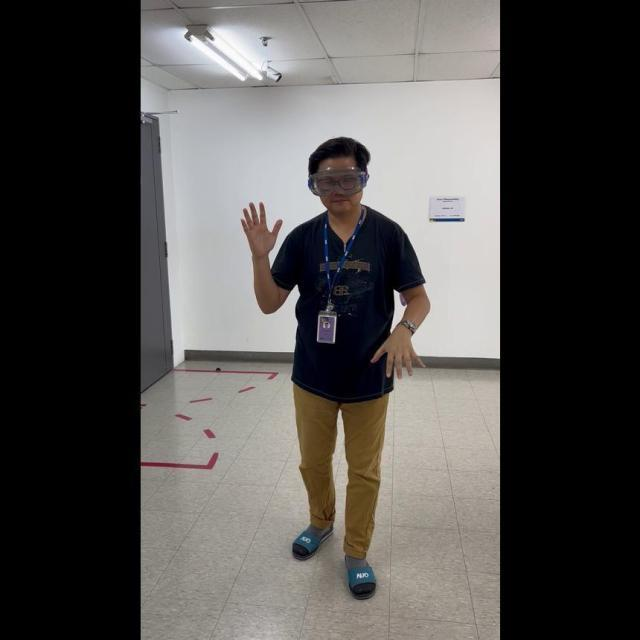bare_hand: (370, 324, 423, 378), (238, 195, 281, 256)
